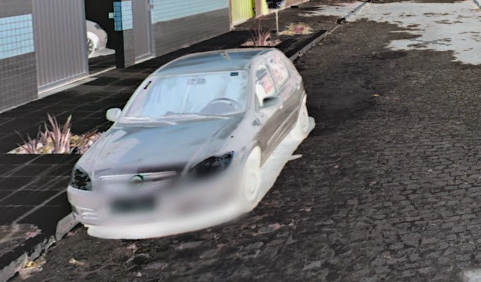car: (65, 44, 316, 237)
